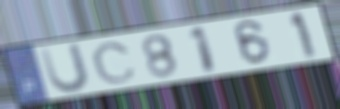1: (286, 9, 321, 62), (186, 24, 222, 75)
6: (232, 20, 274, 67)
8: (140, 32, 182, 80)
C: (89, 41, 139, 85)
U: (36, 41, 93, 96)
